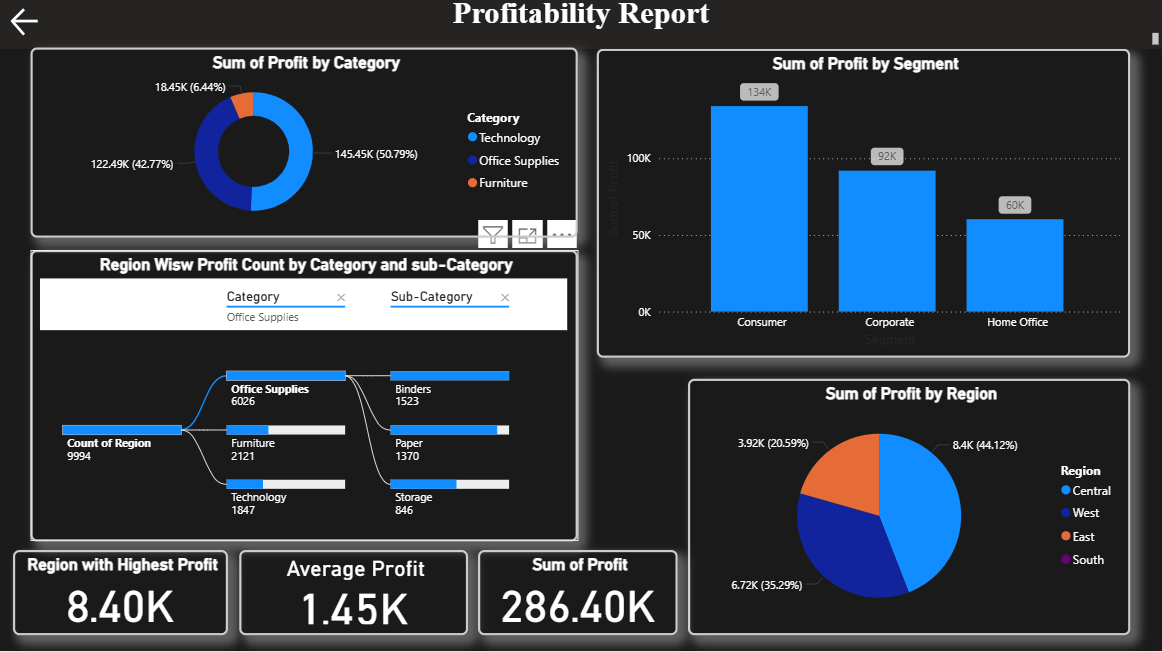

The page's visual inventory and layout, read from the dashboard file:
{"tool":"powerbi","page":{"name":"profitability","canvas":[1280,720],"ordinal":4},"visuals":[{"type":"lineStackedColumnComboChart","fields":{"Category":["Sample - Superstore.Segment"],"Y":["Sum(Sample - Superstore.Profit)"]},"box":[657.3,59,585.9,338.9],"z":0},{"type":"decompositionTreeVisual","title":" Region Wisw Profit Count by Category and sub-Category","fields":{"ExplainBy":["Sample - Superstore.Category","Sample - Superstore.Sub-Category"],"Analyze":["CountNonNull(Sample - Superstore.Region)"]},"box":[36.2,279.9,600.8,319.7],"z":1000},{"type":"pieChart","fields":{"Y":["Sum(Sample - Superstore.Profit)"],"Category":["Sample - Superstore.Region"]},"box":[757.5,421.3,485.8,281.3],"z":2000},{"type":"card","title":"Average Profit","fields":{"Values":["Avg(Sample - Superstore.Profit)"]},"box":[264.8,609.3,251.1,93.3],"z":3000},{"type":"card","title":"Region with Highest  Profit","fields":{"Values":["Max(Sample - Superstore.Profit)"]},"box":[16.5,609.3,236,93.3],"z":4000},{"type":"card","title":"Sum of Profit","fields":{"Values":["Sum(Sample - Superstore.Profit)"]},"box":[526.9,609.3,219.6,93.3],"z":5000},{"type":"textbox","title":"Profitability Report","box":[0,0,1280.3,59],"z":6000},{"type":"actionButton","box":[10,10,100,40],"z":7000},{"type":"donutChart","fields":{"Y":["Sum(Sample - Superstore.Profit)"],"Category":["Sample - Superstore.Category"]},"box":[35.7,57.6,601,208.6],"z":8000}]}

Visuals, with their boxes in screenshot pixels (x1, y1, x2, y2), scaled from the page's 1280x720 canvas onto the 1162x652 screenshot:
lineStackedColumnComboChart - Sample - Superstore.Segment x Sum(Sample - Superstore.Profit): <region>597, 53, 1129, 360</region>
" Region Wisw Profit Count by Category and sub-Category" decompositionTreeVisual: <region>33, 253, 578, 543</region>
pieChart - Sum(Sample - Superstore.Profit) x Sample - Superstore.Region: <region>688, 382, 1129, 636</region>
"Average Profit" card: <region>240, 552, 468, 636</region>
"Region with Highest  Profit" card: <region>15, 552, 229, 636</region>
"Sum of Profit" card: <region>478, 552, 678, 636</region>
"Profitability Report" textbox: <region>0, 0, 1161, 53</region>
actionButton: <region>9, 9, 100, 45</region>
donutChart - Sum(Sample - Superstore.Profit) x Sample - Superstore.Category: <region>32, 52, 578, 241</region>
